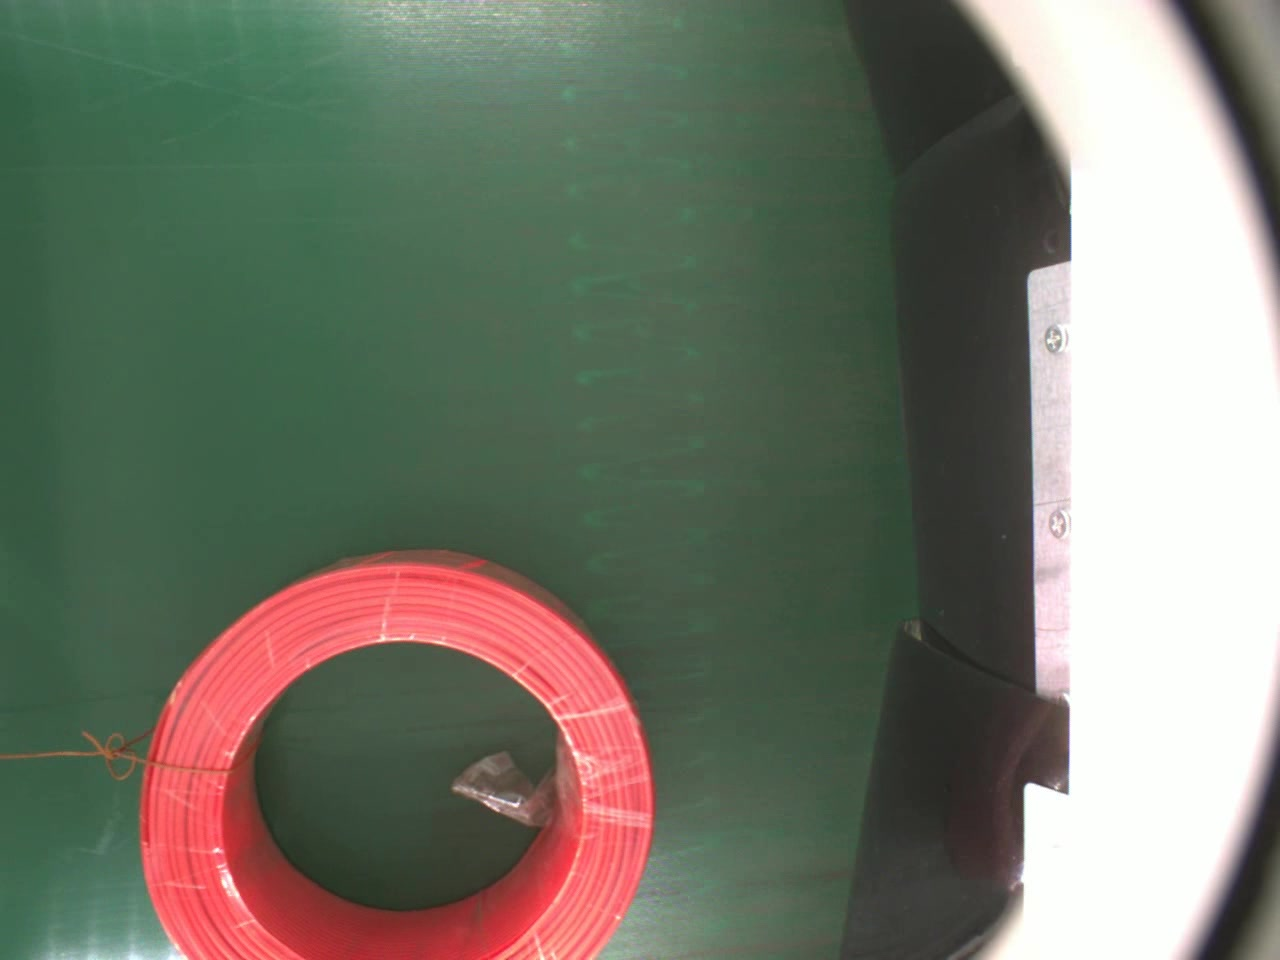red: (136, 541, 658, 960)
